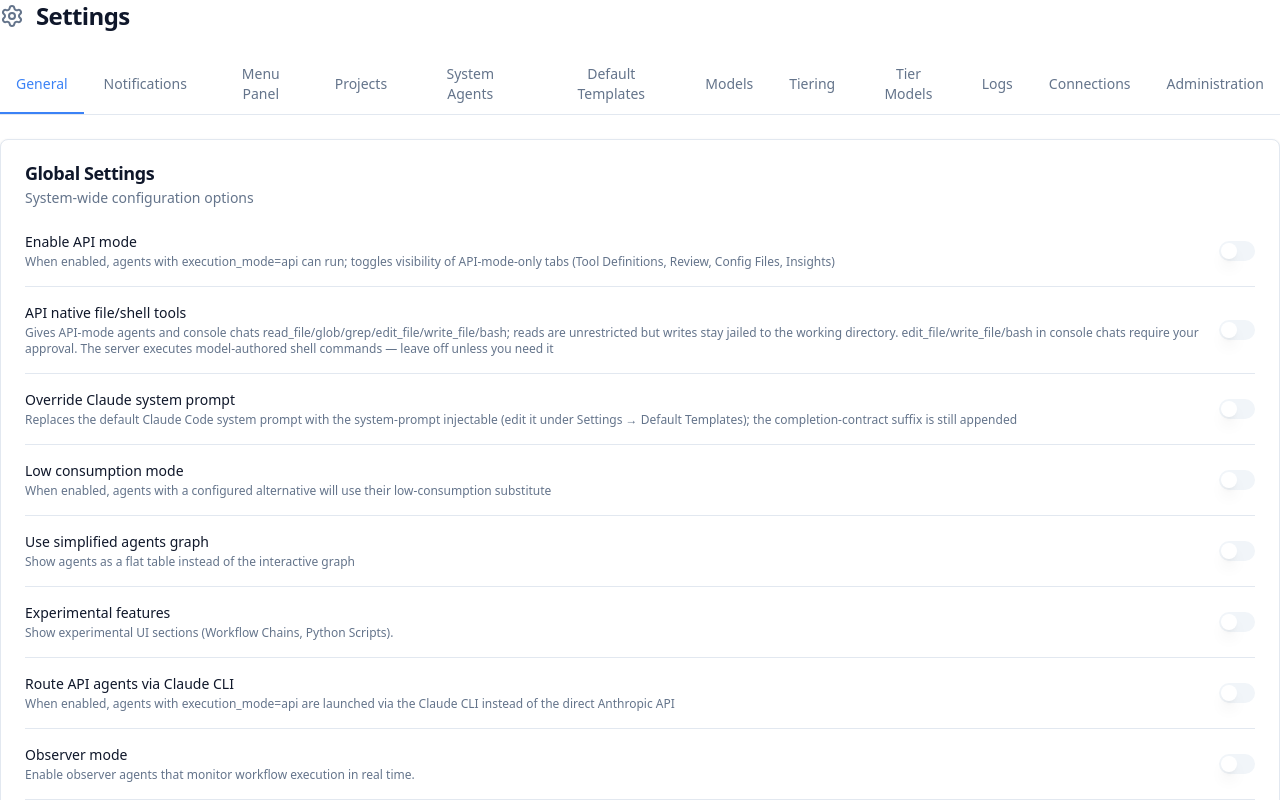
Test case: SettingsPage - Connections tab › clicking Connections tab renders the Connections section heading
What coordinates should you click on to do the following:
click the button "Connections"
I would click on:
 (1090, 85)
Its box is [1033,56,1146,114].
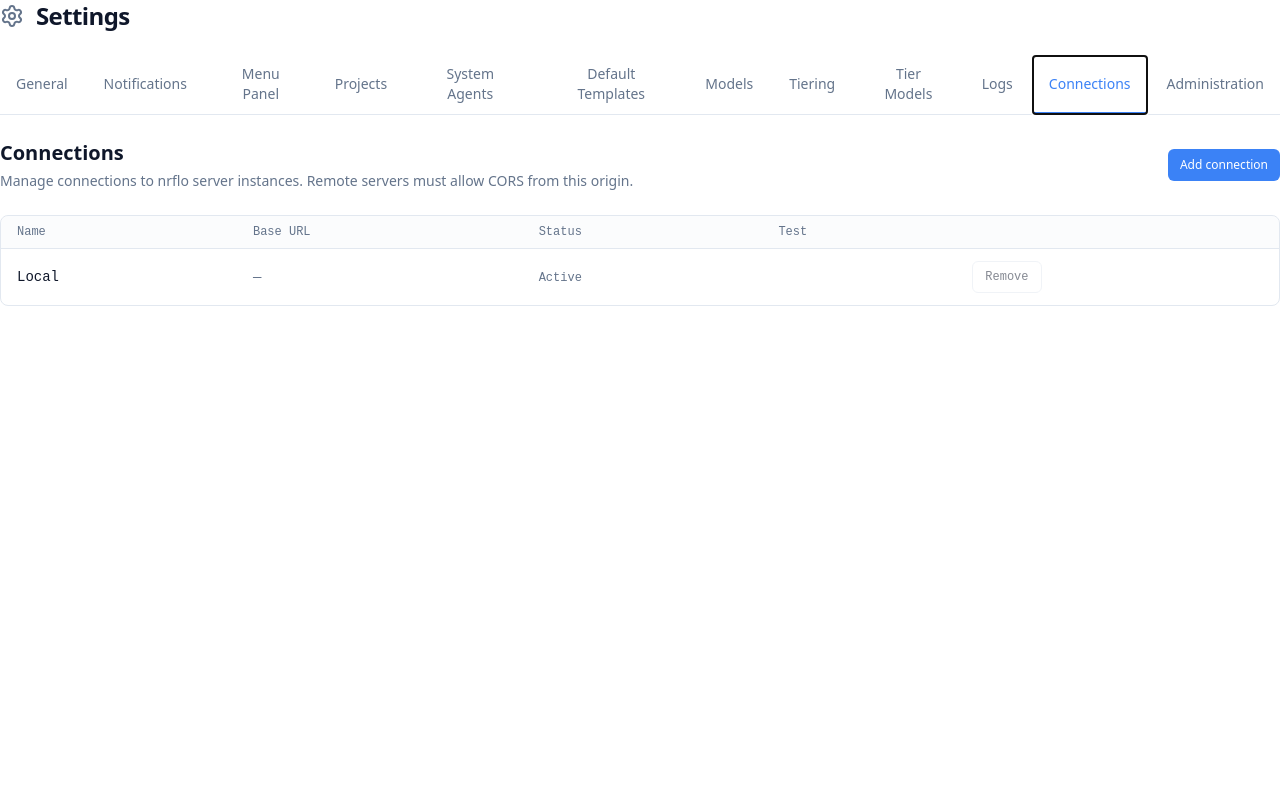
Check: the heading "Connections" is shown, box [0,139,124,166]
